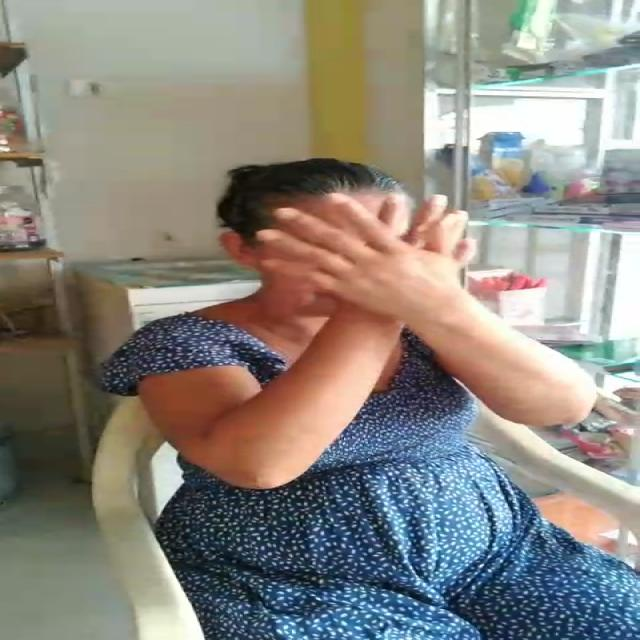7_mano_rostro: (242, 190, 438, 314)
